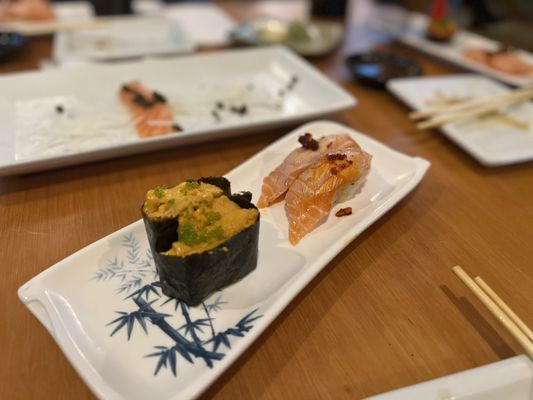curry: (2, 2, 532, 399)
sushi: (141, 177, 261, 307)
